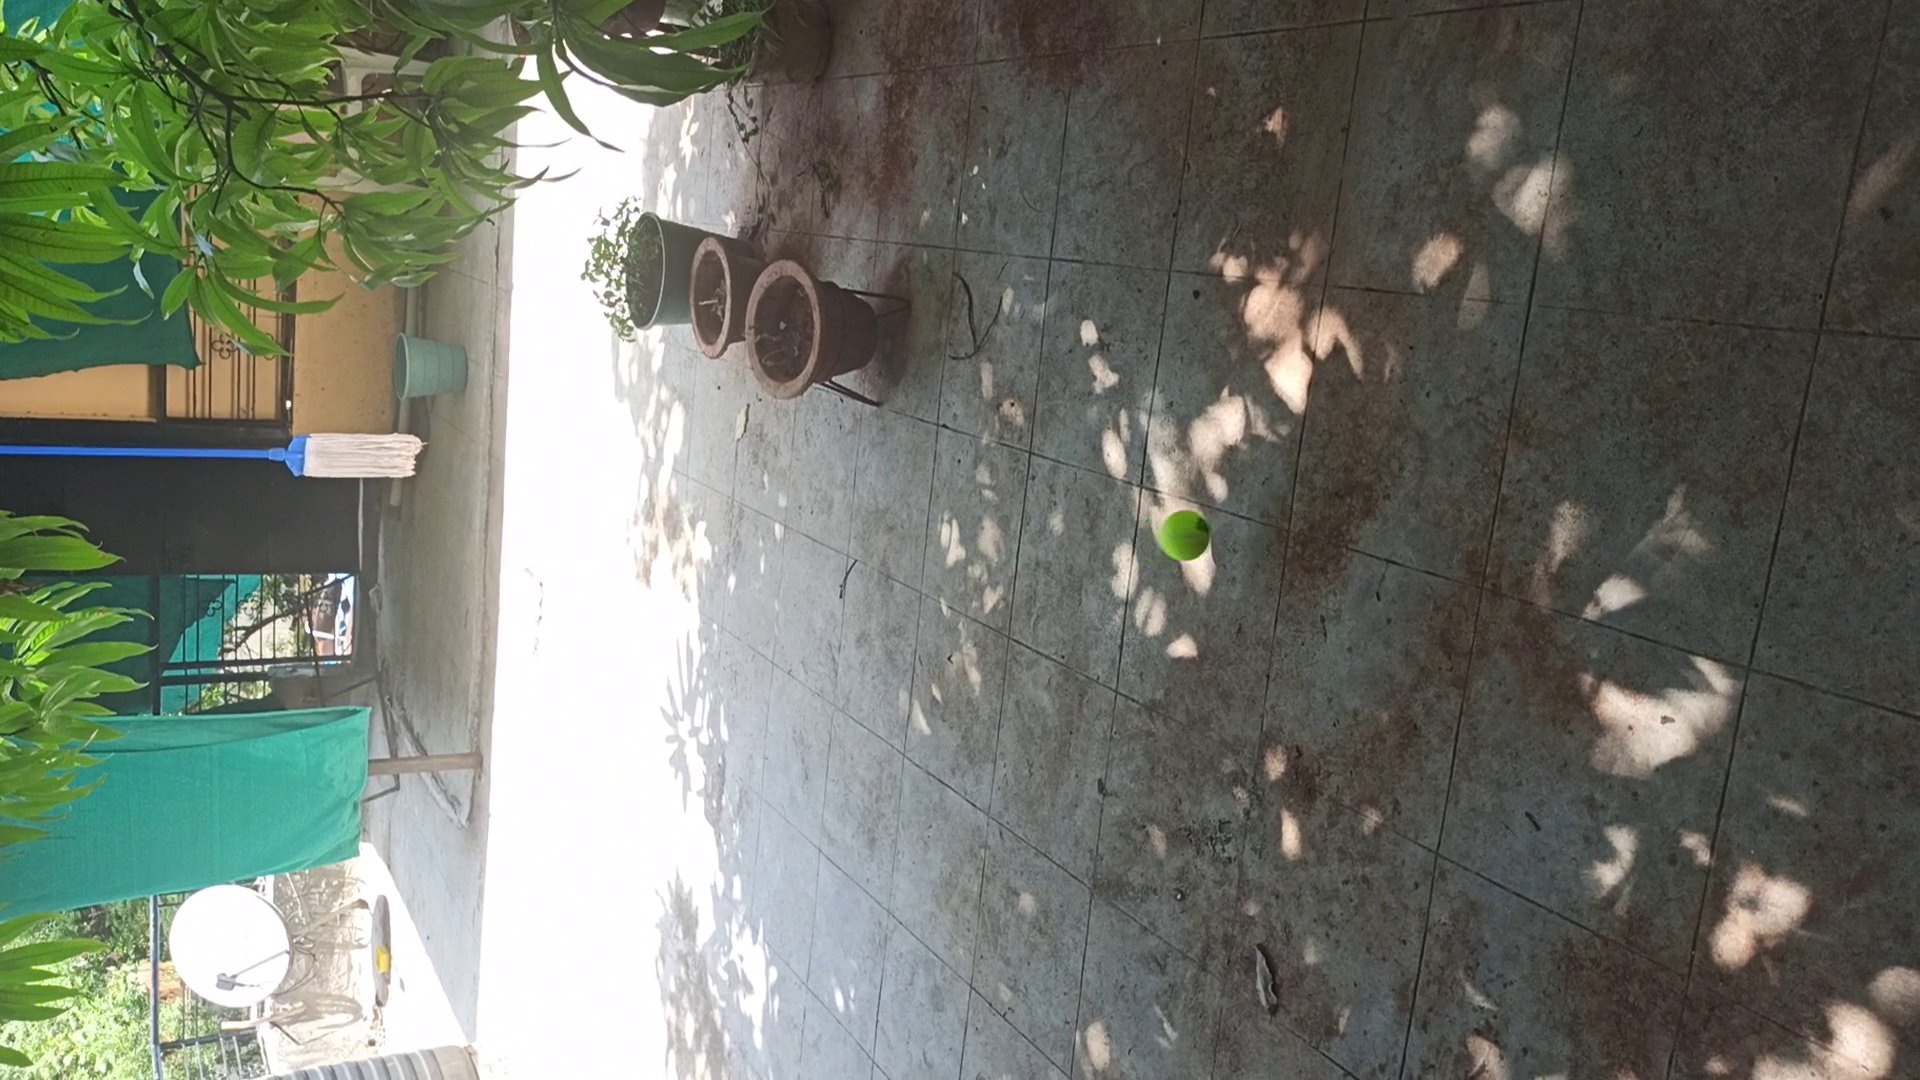Tennis-Ball: (1159, 510, 1209, 560)
